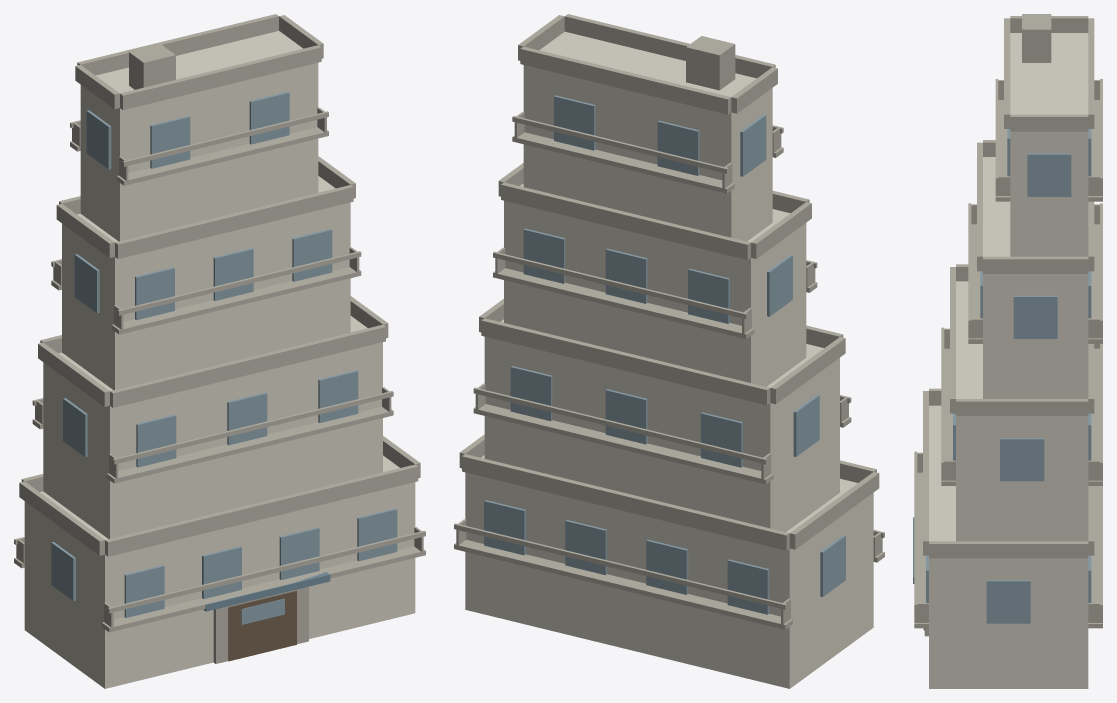
File: residential_2x1_terraces.glb
The picture shows the model from 3 angles, left to right: view 1: azimuth 30°, elevation 25°; view 2: azimuth 150°, elevation 25°; view 3: azimuth 270°, elevation 25°; orthographic projection. The views are drawn at different scales.
Visible parts, largest first — view 1: residential_2x1_terraces_0; view 2: residential_2x1_terraces_0; view 3: residential_2x1_terraces_0.
Part boxes in pixels (bbox=[...]): residential_2x1_terraces_0: bbox=[14, 14, 425, 688]; residential_2x1_terraces_0: bbox=[454, 14, 884, 688]; residential_2x1_terraces_0: bbox=[913, 14, 1102, 688].
Bounding box in the file's own units: 15 × 25.5 × 7.75.
